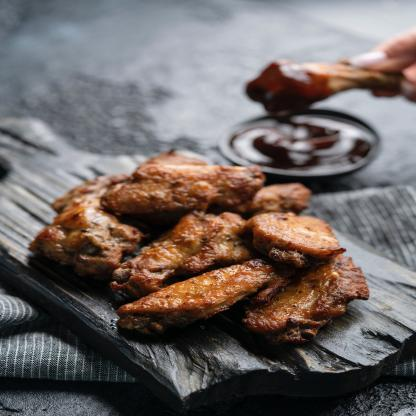Carne: (112, 206, 251, 298), (128, 258, 271, 328), (265, 250, 365, 342), (106, 162, 260, 210), (55, 175, 138, 264)
